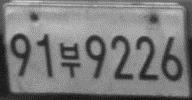1: (35, 32, 55, 79)
2: (109, 34, 134, 81), (135, 35, 159, 81)
6: (160, 35, 184, 82)
9: (8, 32, 32, 78), (84, 33, 107, 79)
부: (58, 41, 82, 80)
